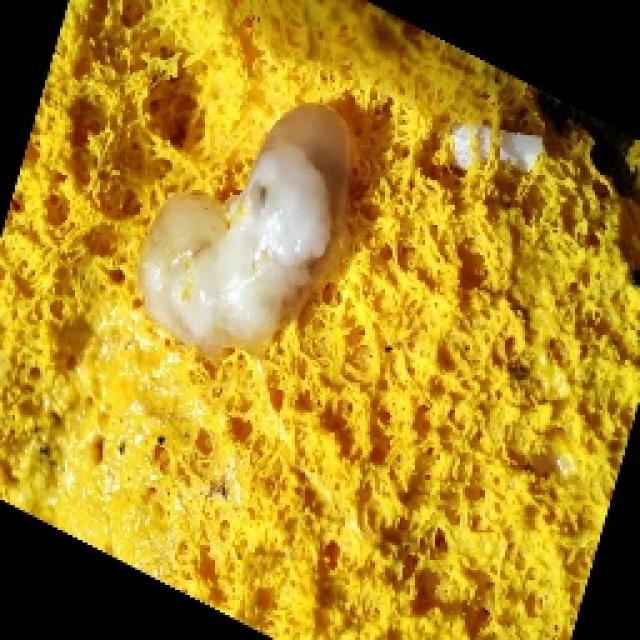Dog_vomit_slime_mold: (3, 9, 628, 640)
